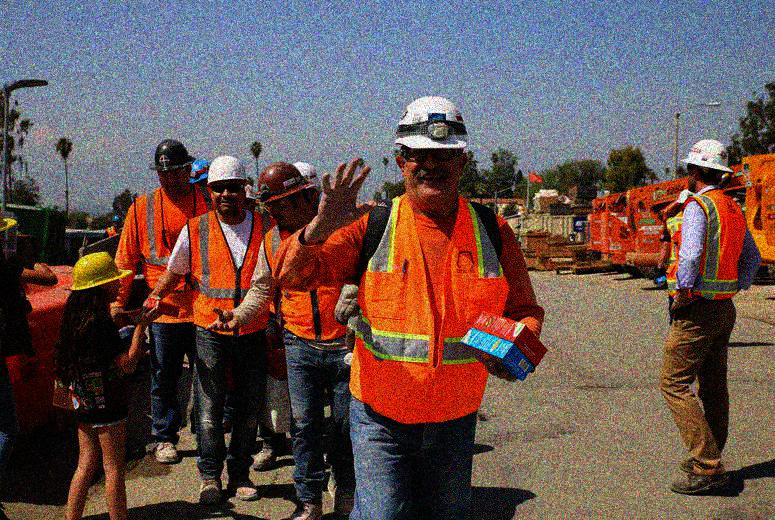helmet: (394, 96, 473, 211), (255, 160, 313, 230), (69, 251, 135, 303), (204, 155, 252, 220), (679, 137, 732, 192), (148, 140, 193, 193), (287, 160, 323, 208), (190, 157, 211, 191), (110, 212, 123, 229)
